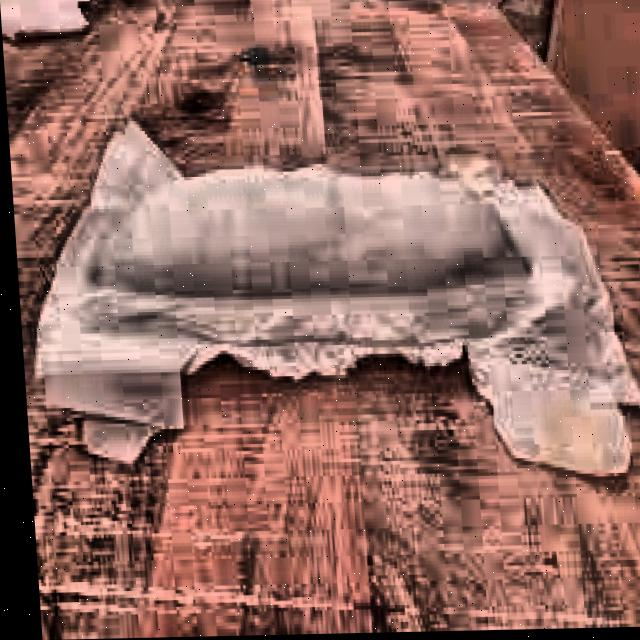trash: (35, 110, 640, 487)
